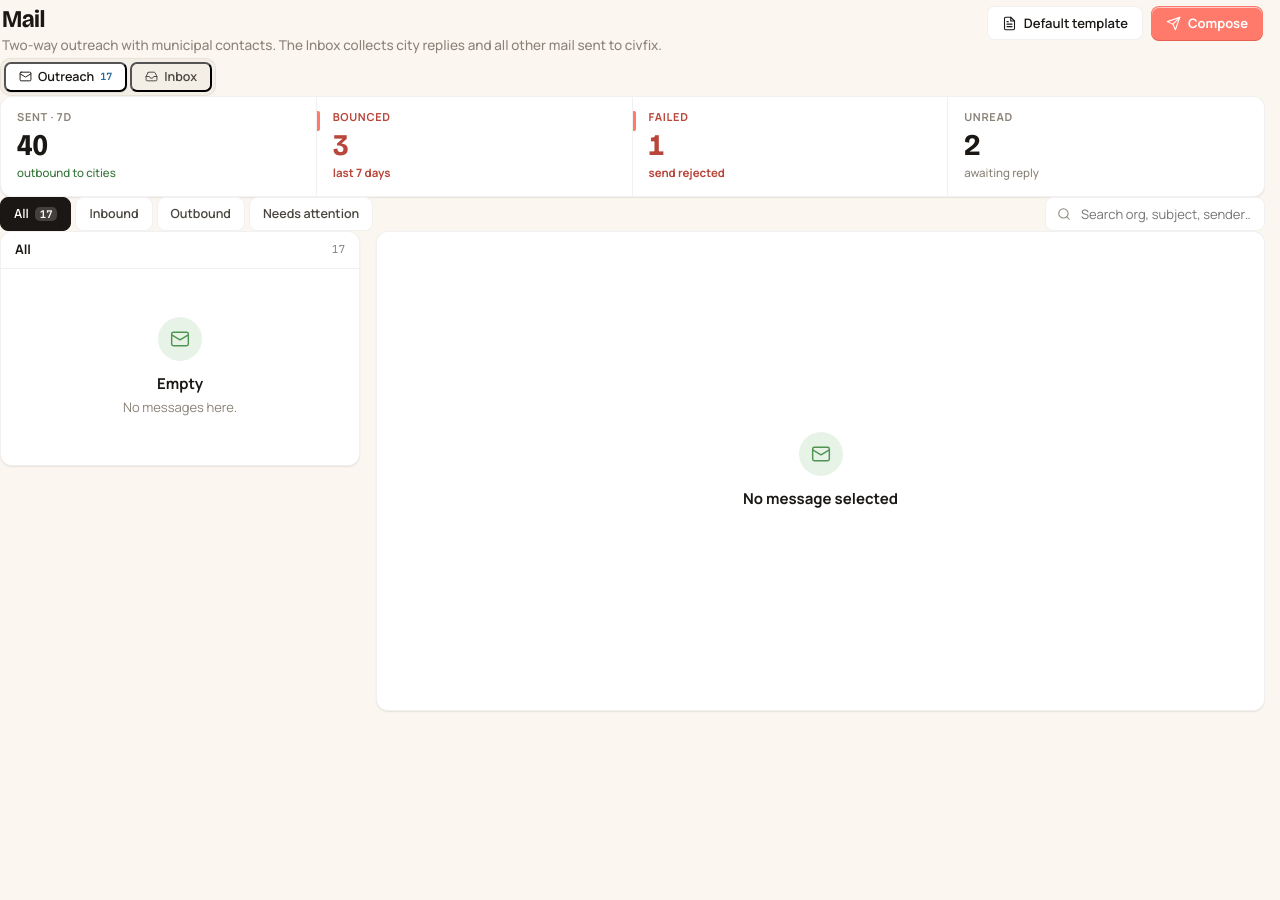
MailPage inbox › confirms a published reply though the refreshed thread drops its note before the feed refetch lands
The width and height of the screenshot is (1280, 900).
What coordinates should you click on to do the following:
click the radio button labelled "Inbox"
I would click on:
 (171, 77)
Its box is top-left (130, 62), bottom-right (212, 92).
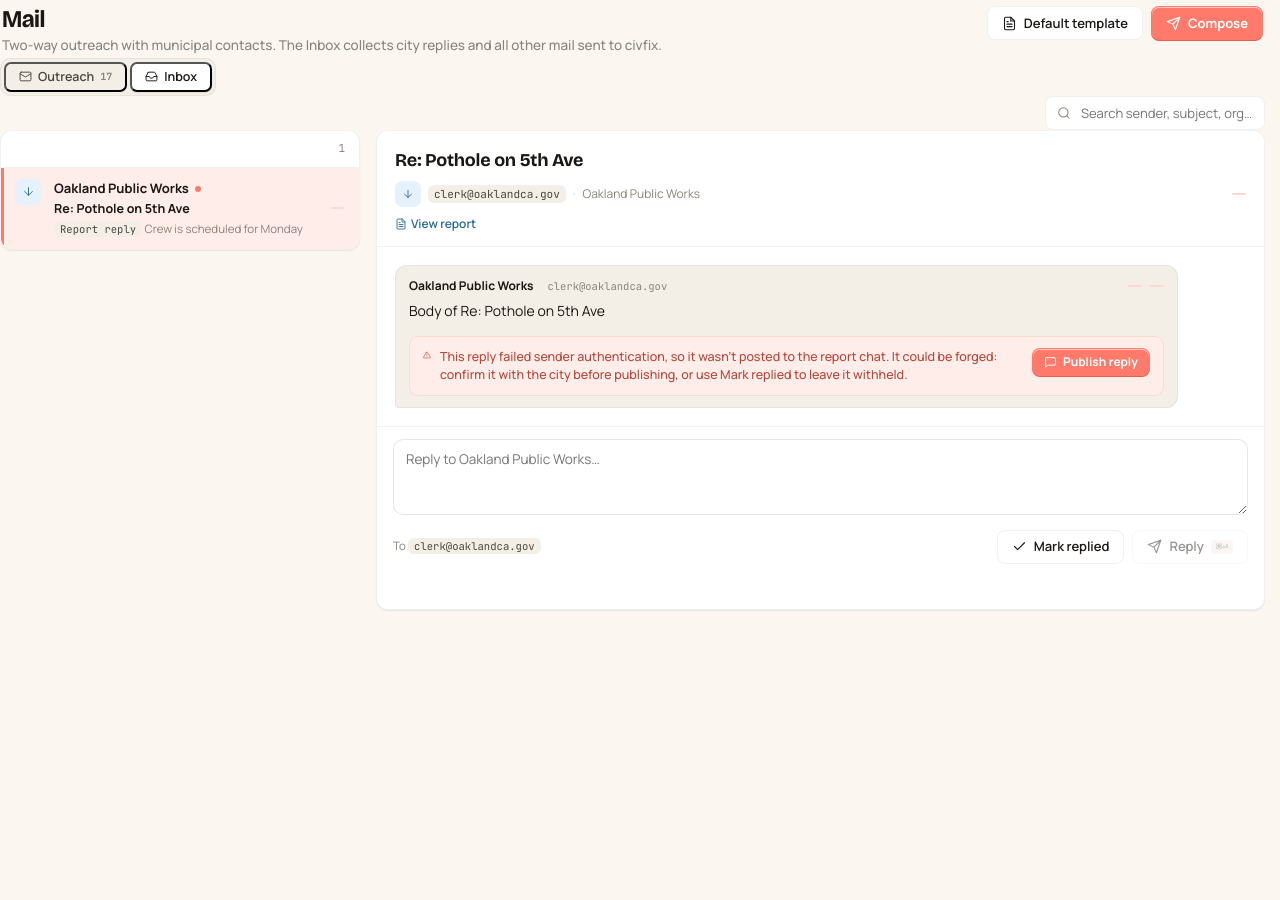
What coordinates should you click on to do the following:
click the button "Publish reply"
I would click on:
 (1091, 362)
Its box is top-left (1032, 348), bottom-right (1150, 376).
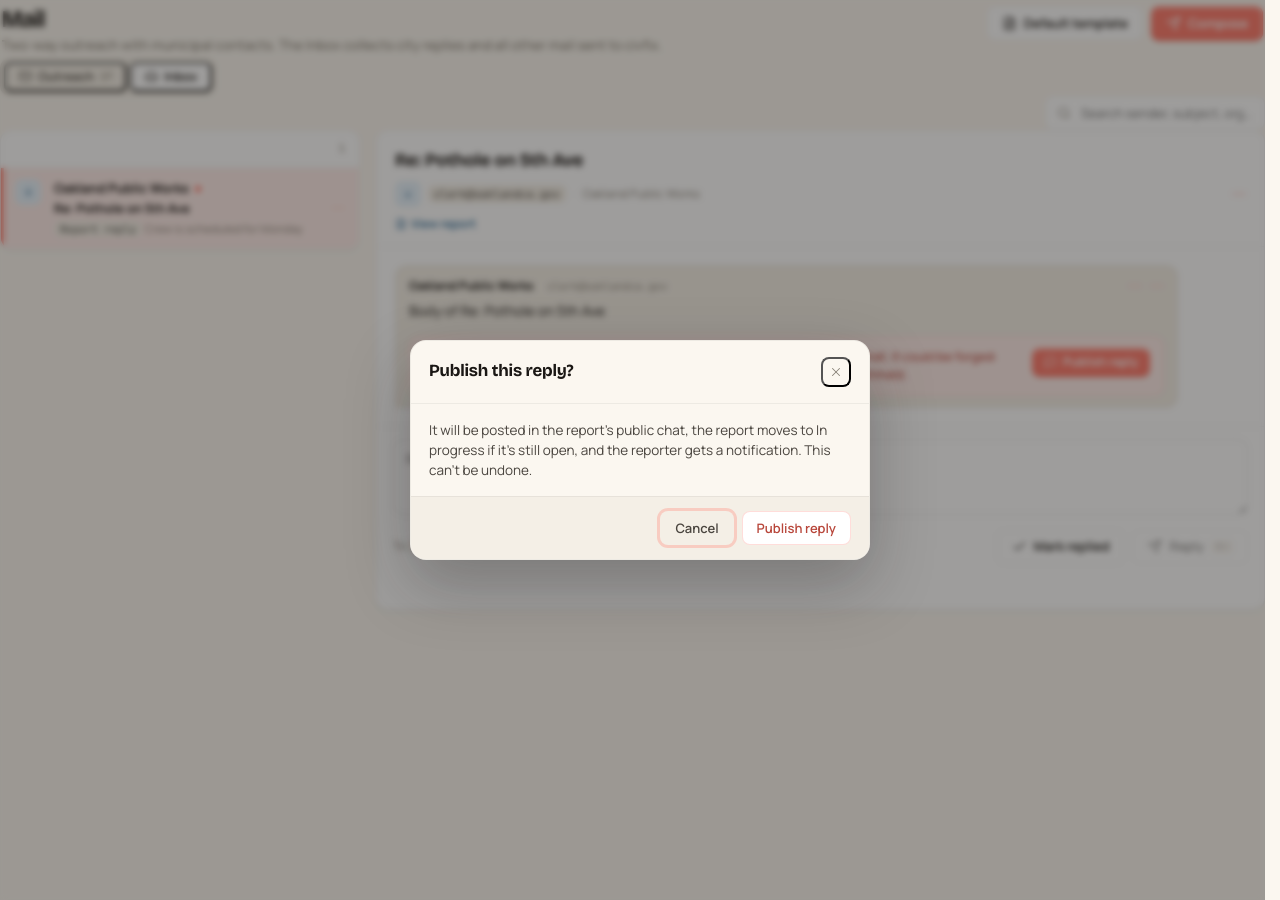
What coordinates should you click on to do the following:
click the button "Publish reply"
I would click on:
 (796, 528)
Its box is top-left (742, 511), bottom-right (851, 545).
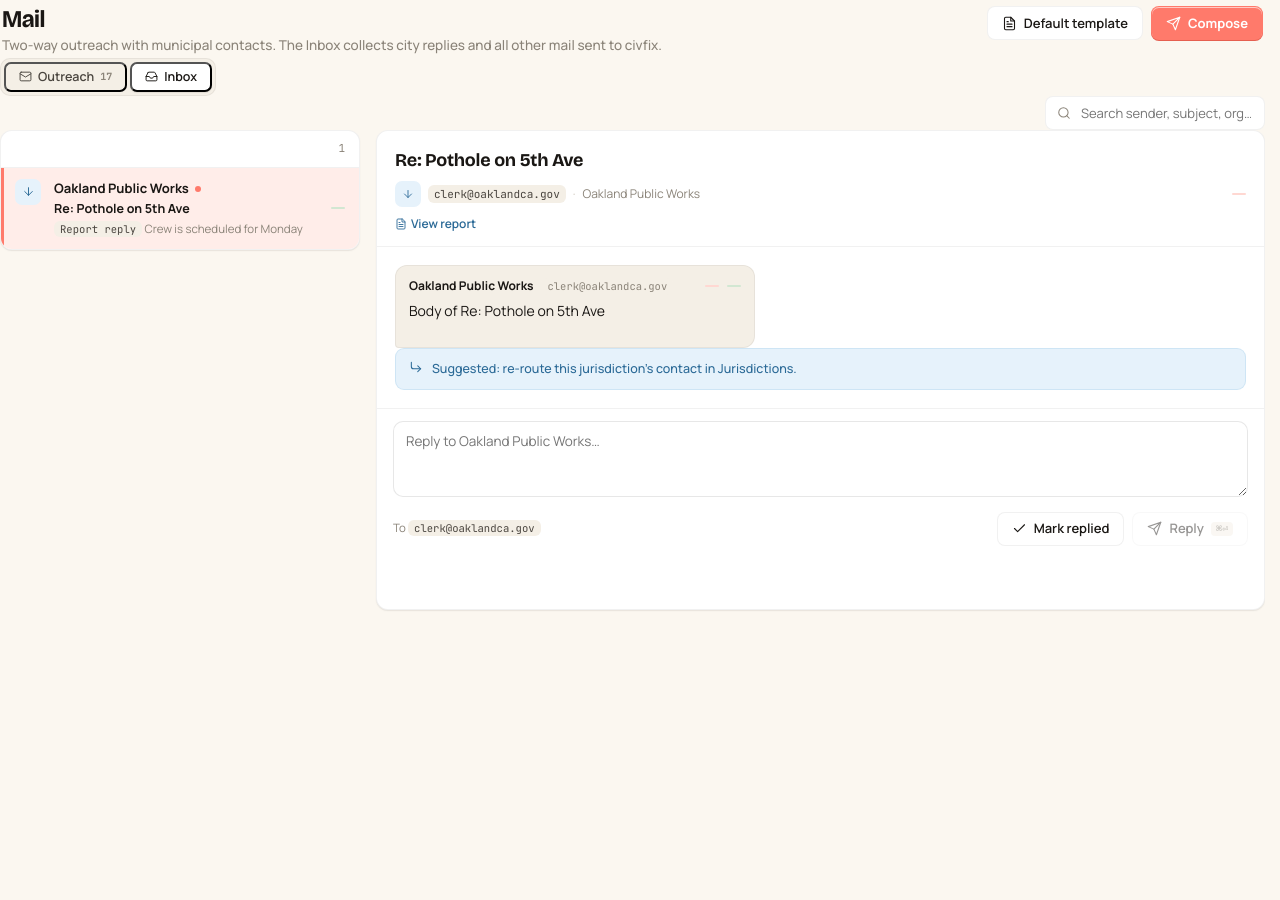
Expected: the button "Publish reply" is gone
